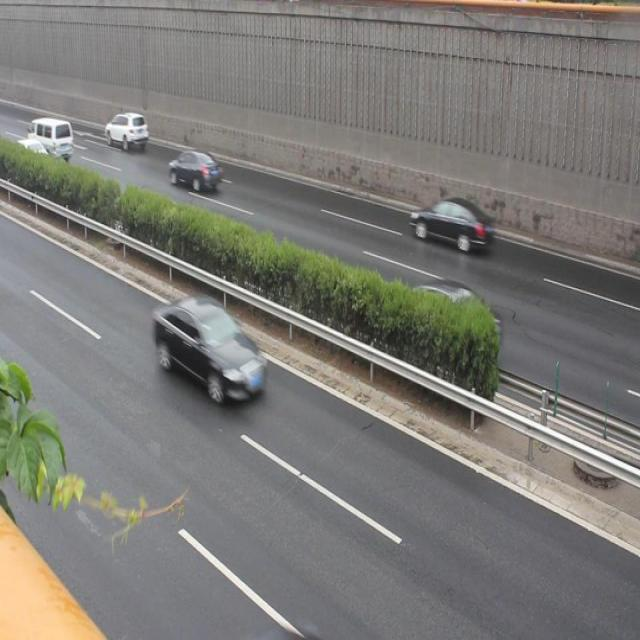car: (154, 296, 264, 401), (388, 283, 501, 359), (409, 196, 491, 254), (168, 148, 220, 194), (104, 110, 148, 153)
truck: (28, 115, 72, 160)
